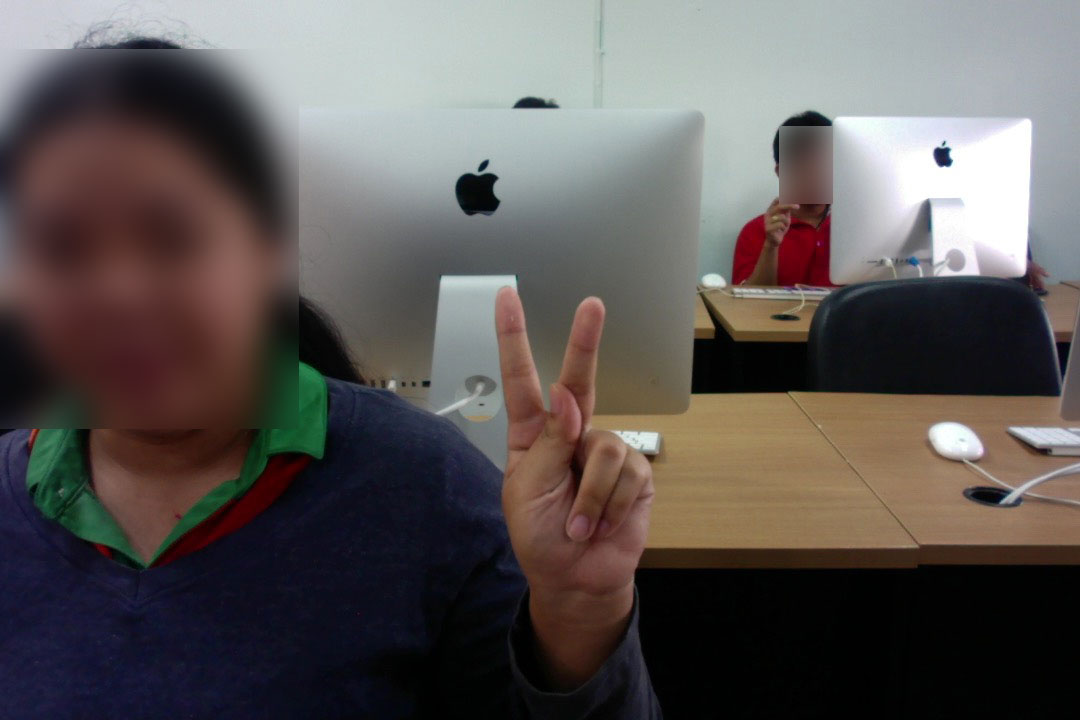ko: (478, 273, 665, 635)
